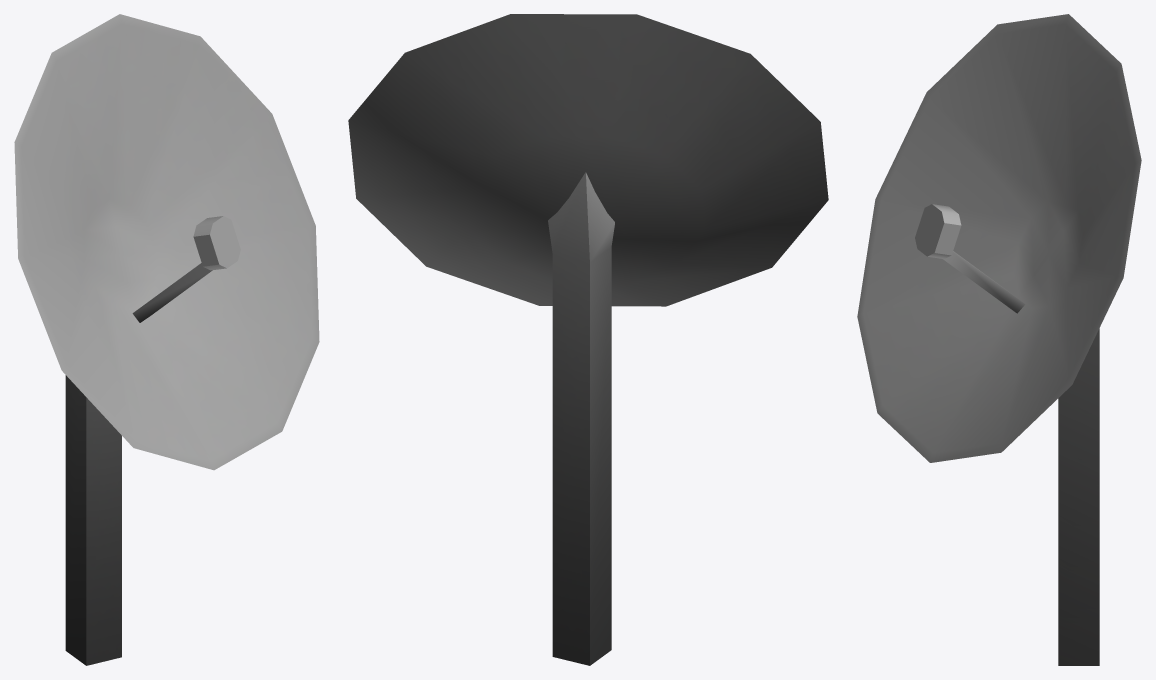
The model's file is Antena_2.obj.
3 renders of one model, left to right at view 1: azimuth 30°, elevation 25°; view 2: azimuth 150°, elevation 25°; view 3: azimuth 270°, elevation 25°, orthographic. The views are drawn at different scales.
Parts seen in each view (by area): view 1: Antena2; view 2: Antena2; view 3: Antena2.
Boxes of the visible parts, x1=… form: Antena2: x1=14, y1=14, x2=319, y2=665; Antena2: x1=348, y1=14, x2=828, y2=665; Antena2: x1=857, y1=14, x2=1141, y2=665.
Bounding box in the file's own units: 20.45 × 32.54 × 13.53.
Materials: 1 (1 with a texture image).
